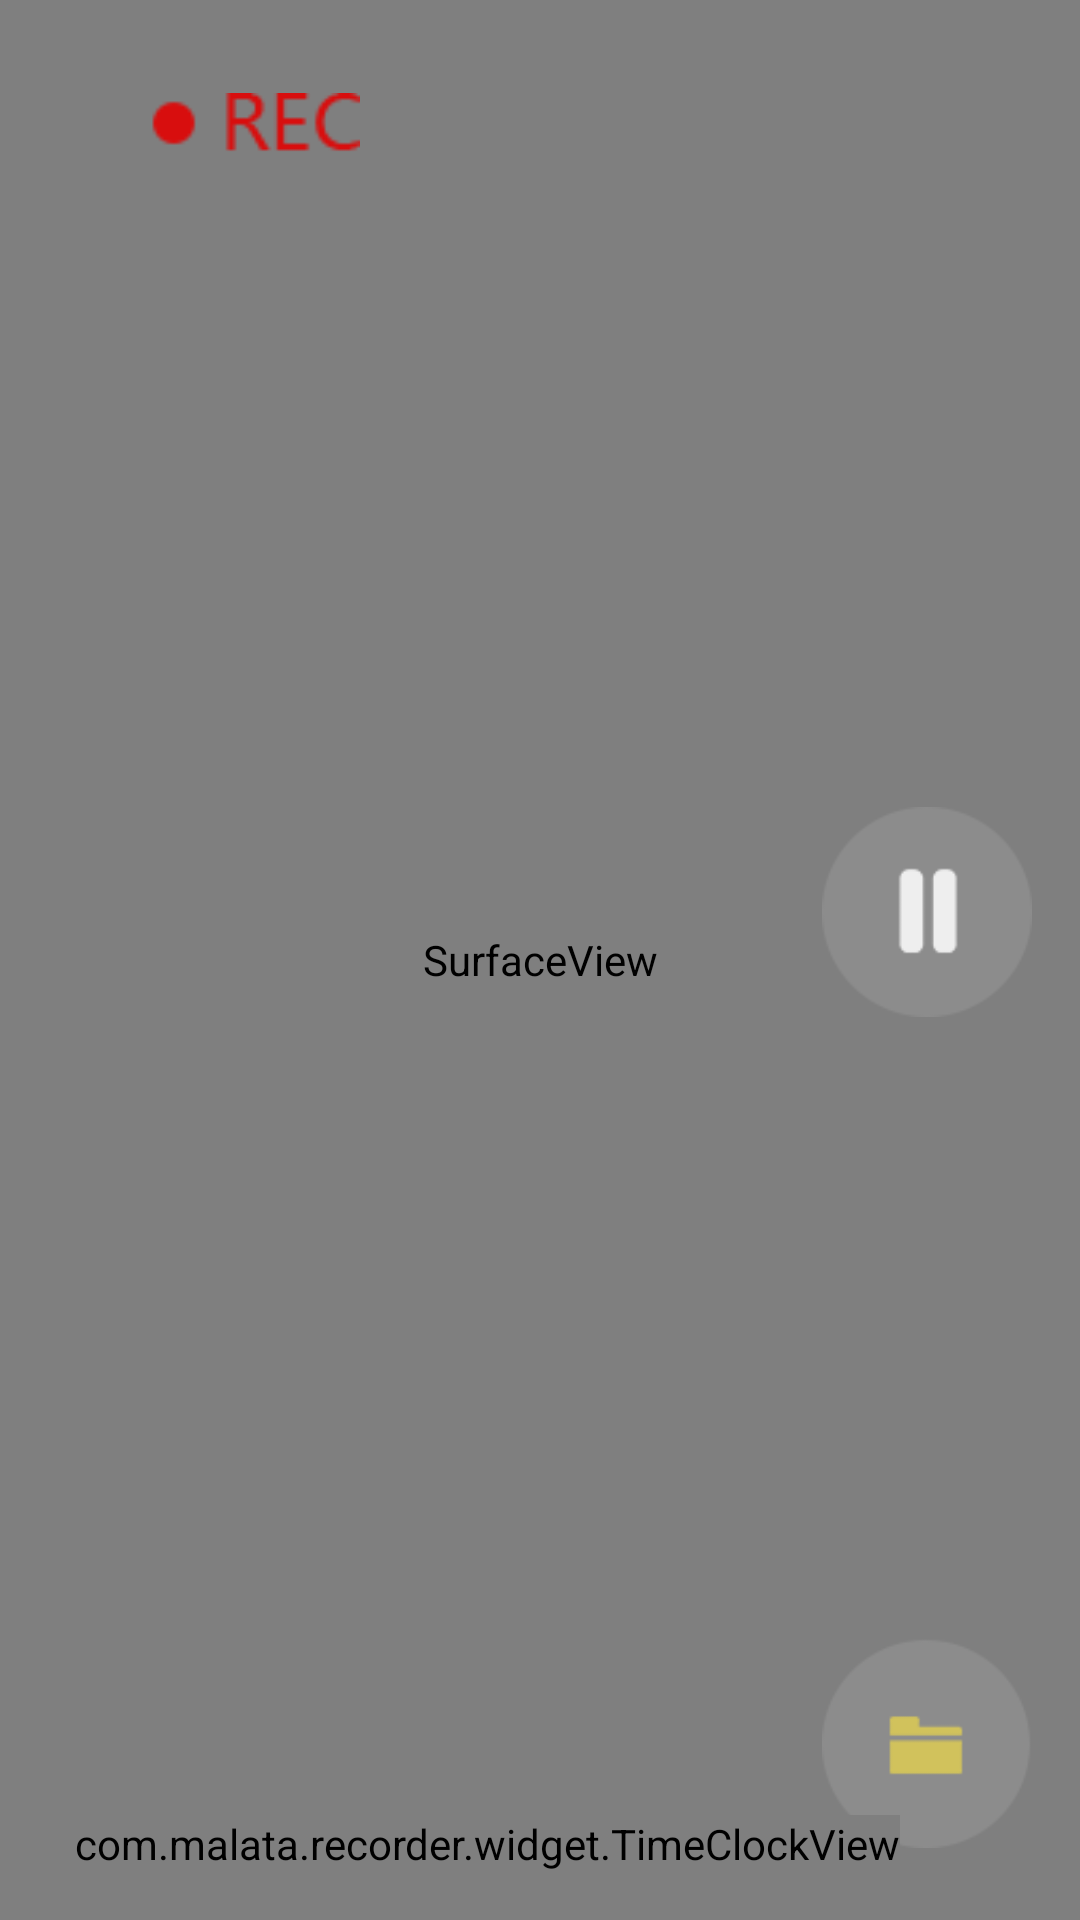

Screen size 1080 × 1920. Icon name, then its box in pixels as [x1,y1,x2,y2]:
file manager: [822,1640,1030,1848]
